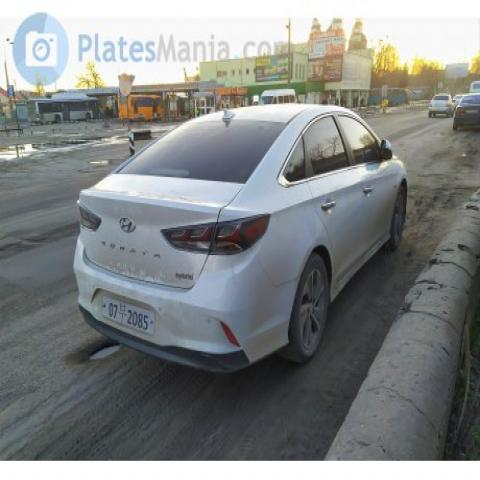LP: (93, 290, 161, 344)
